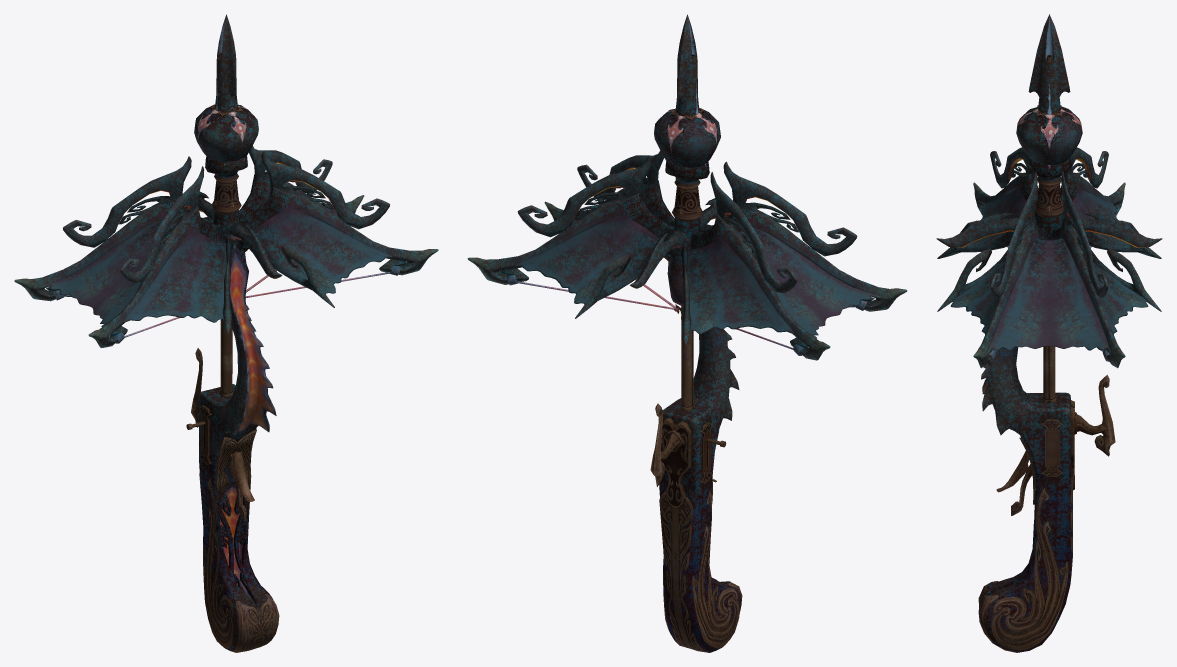
Rendered from lbg013.obj.
The picture shows the model from 3 angles, left to right: view 1: azimuth 30°, elevation 25°; view 2: azimuth 150°, elevation 25°; view 3: azimuth 270°, elevation 25°; orthographic projection. The views are drawn at different scales.
Visible parts, largest first — view 1: lbg013_000_LOD_1, lbg013_007_LOD_1, lbg013_001_LOD_1, lbg013_004_LOD_1, lbg013_008_LOD_1, lbg013_005_LOD_1, lbg013_006_LOD_1, lbg013_003_LOD_1, lbg013_002_LOD_1; view 2: lbg013_000_LOD_1, lbg013_007_LOD_1, lbg013_001_LOD_1, lbg013_004_LOD_1, lbg013_008_LOD_1, lbg013_005_LOD_1, lbg013_006_LOD_1, lbg013_003_LOD_1, lbg013_002_LOD_1; view 3: lbg013_000_LOD_1, lbg013_007_LOD_1, lbg013_001_LOD_1, lbg013_004_LOD_1, lbg013_006_LOD_1, lbg013_008_LOD_1, lbg013_005_LOD_1, lbg013_003_LOD_1.
Part boxes in pixels (box(x1,y1,x2,y2)): lbg013_000_LOD_1: box(186, 173, 279, 652); lbg013_007_LOD_1: box(36, 194, 416, 340); lbg013_001_LOD_1: box(14, 174, 438, 347); lbg013_004_LOD_1: box(63, 146, 389, 283); lbg013_008_LOD_1: box(194, 104, 258, 178); lbg013_005_LOD_1: box(205, 14, 247, 176); lbg013_006_LOD_1: box(203, 216, 334, 333); lbg013_003_LOD_1: box(185, 191, 282, 278); lbg013_002_LOD_1: box(53, 265, 400, 343); lbg013_000_LOD_1: box(650, 180, 742, 652); lbg013_007_LOD_1: box(490, 201, 884, 352); lbg013_001_LOD_1: box(467, 180, 907, 360); lbg013_004_LOD_1: box(517, 150, 857, 293); lbg013_008_LOD_1: box(654, 107, 720, 184); lbg013_005_LOD_1: box(665, 14, 709, 182); lbg013_006_LOD_1: box(575, 224, 711, 345); lbg013_003_LOD_1: box(630, 198, 729, 288); lbg013_002_LOD_1: box(506, 275, 867, 355); lbg013_000_LOD_1: box(978, 177, 1115, 652); lbg013_007_LOD_1: box(950, 188, 1148, 358); lbg013_001_LOD_1: box(973, 173, 1125, 368); lbg013_004_LOD_1: box(990, 147, 1108, 297); lbg013_006_LOD_1: box(937, 220, 1161, 311); lbg013_008_LOD_1: box(1016, 105, 1082, 181); lbg013_005_LOD_1: box(1027, 14, 1071, 179); lbg013_003_LOD_1: box(936, 212, 1162, 247).
Size of the model in its own units: 133 by 226 by 73.15.
